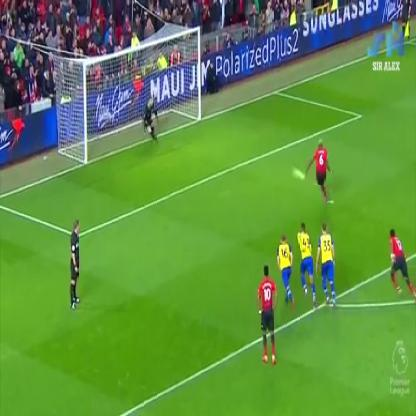penalty kick: (31, 42, 360, 207)
